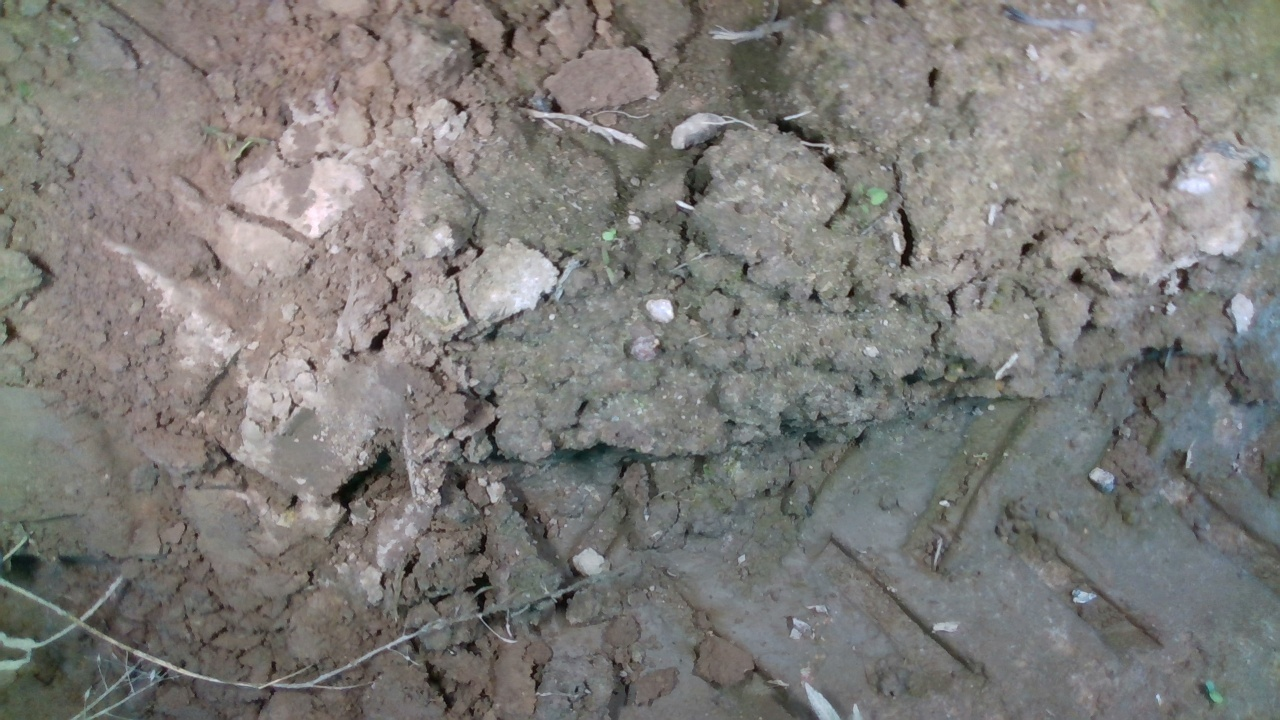weed: (858, 186, 893, 208)
